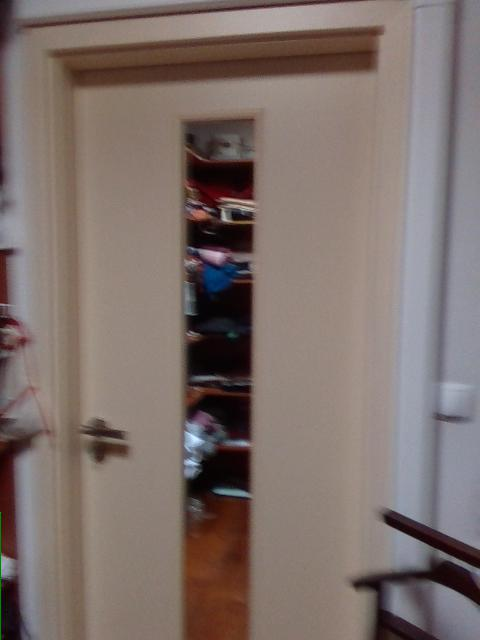door: (24, 4, 402, 639)
